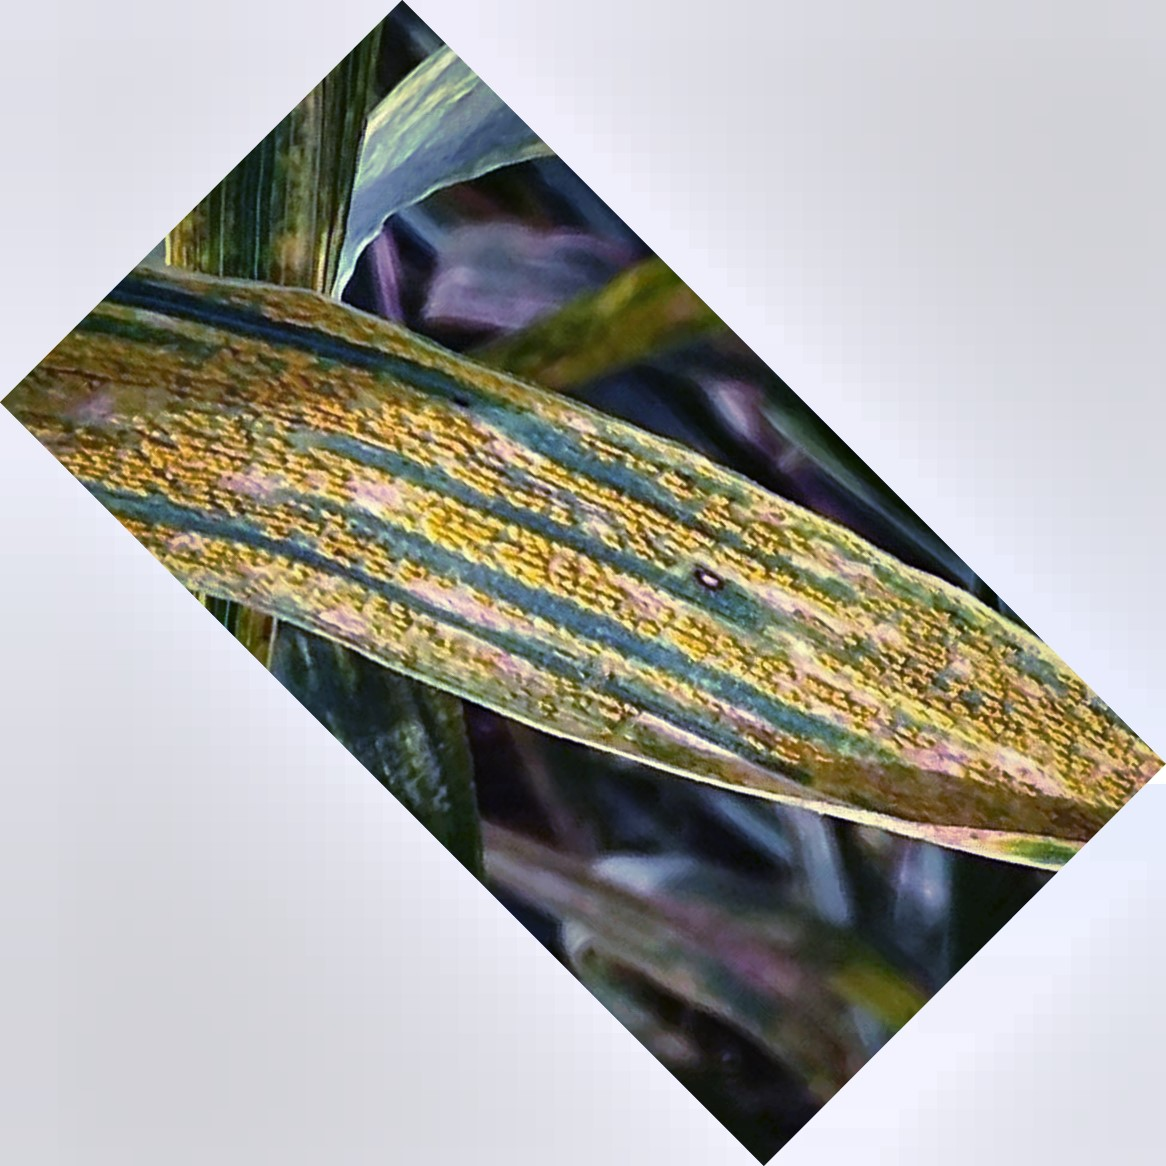Leaf Rust: (158, 330, 1071, 869)
